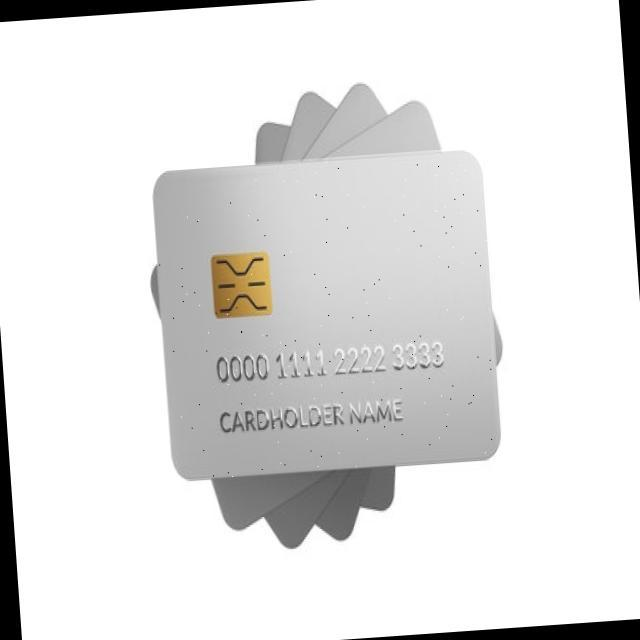payment_card: (150, 146, 500, 480)
